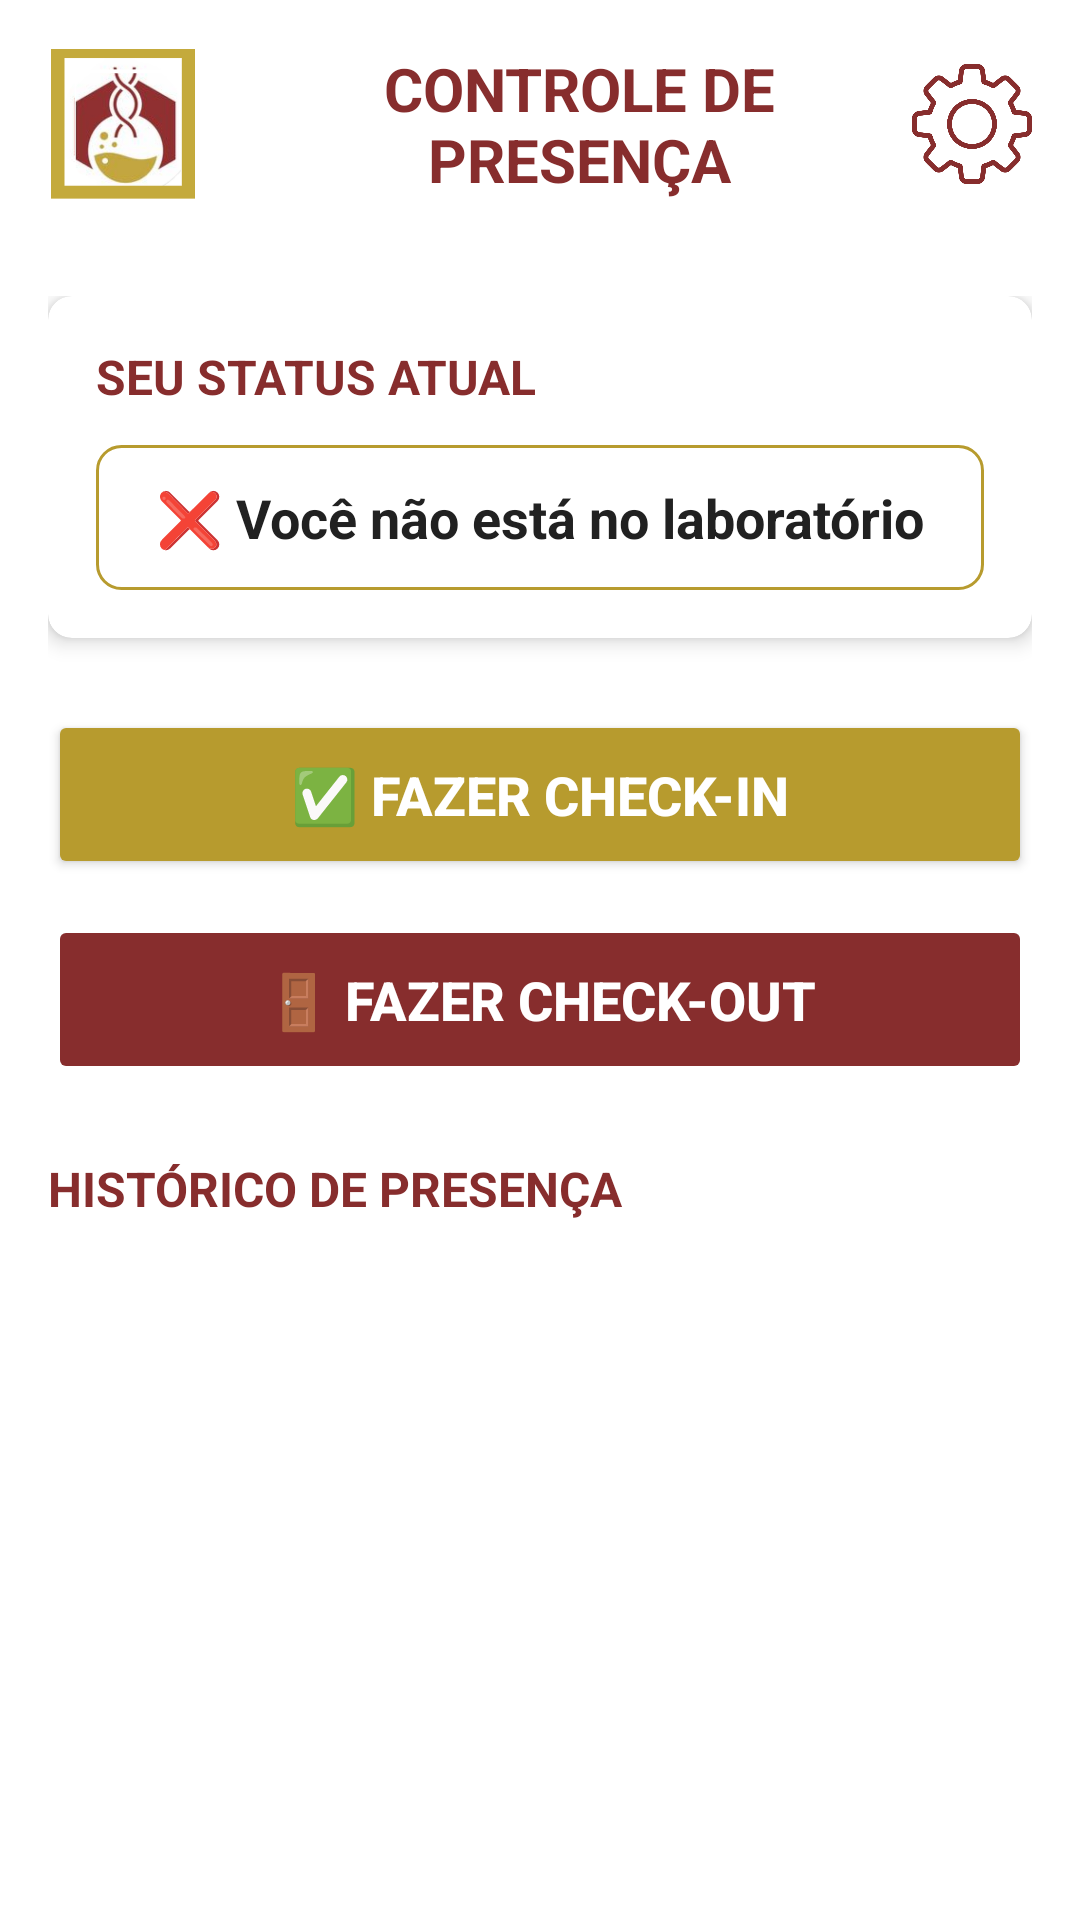

Where icons sit on this 1080px x 1920px app screen, as (x1, y1, x2, y2):
Configurações: (912, 64, 1032, 184)
